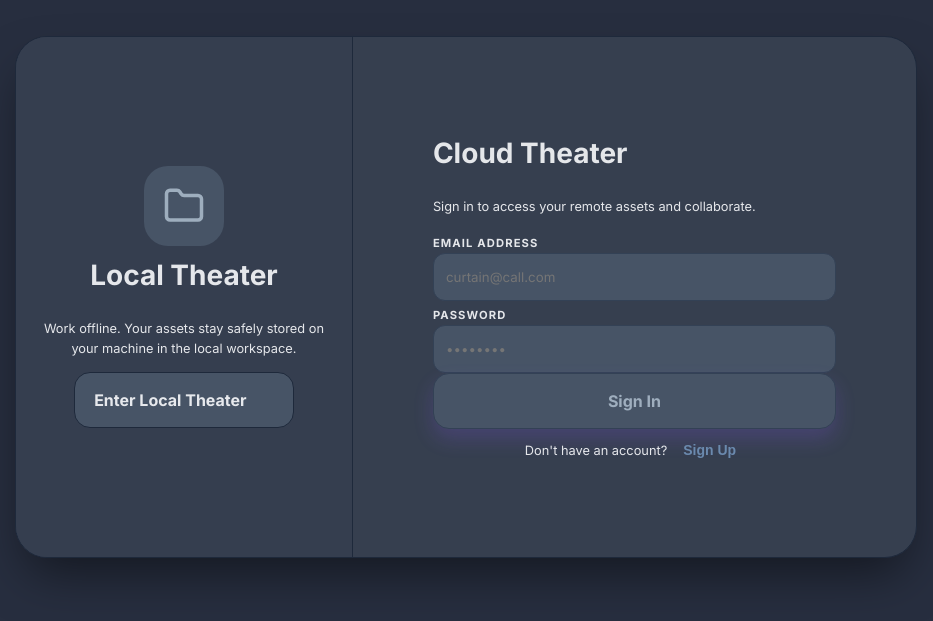
Scenario: LoginView › handles registration success
The image size is (933, 621).
Switch to register
Click the button "Sign Up" at (710, 450), box x1=675 y1=438 x2=744 y2=462
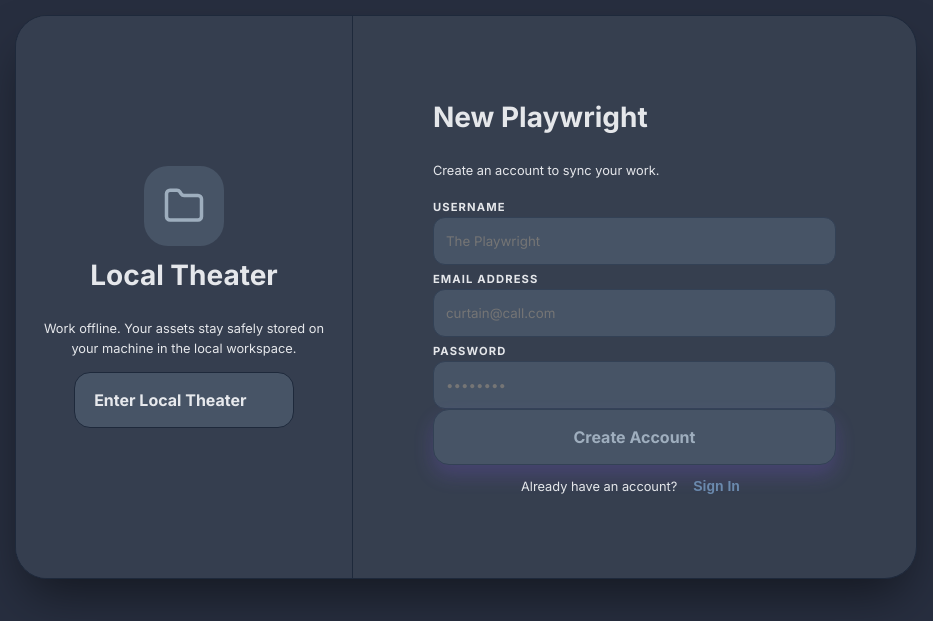
Type "newuser" into the field with placeholder "The Playwright" at (634, 241), box x1=433 y1=217 x2=836 y2=265
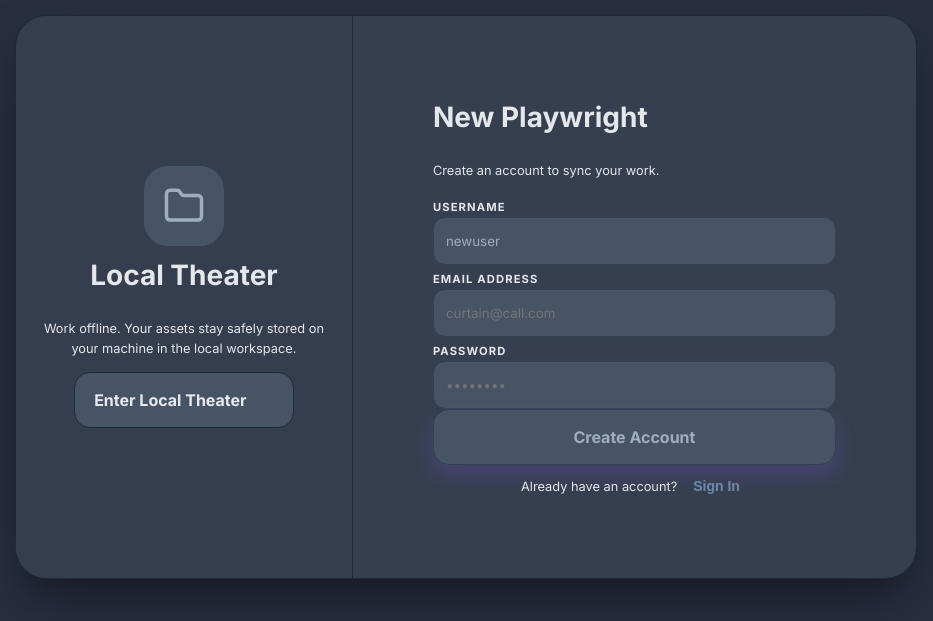
Type "new@example.com" into the field with placeholder "curtain@call.com" at (634, 313), box x1=433 y1=289 x2=836 y2=337
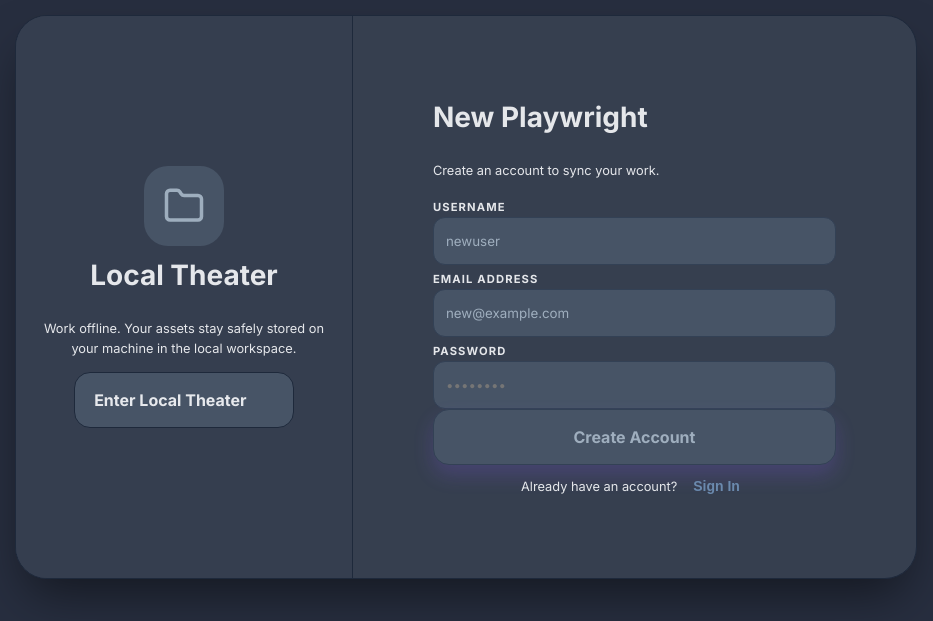
Type "password123" into the password field with placeholder "••••••••" at (634, 385), box x1=433 y1=361 x2=836 y2=409
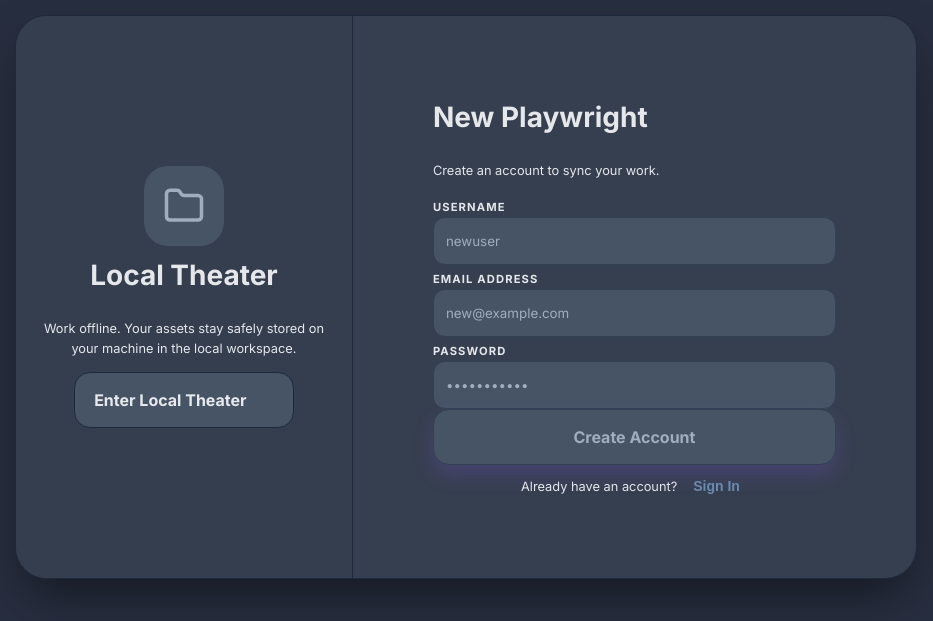
Click the button "Create Account" at (634, 437), box x1=433 y1=409 x2=836 y2=465
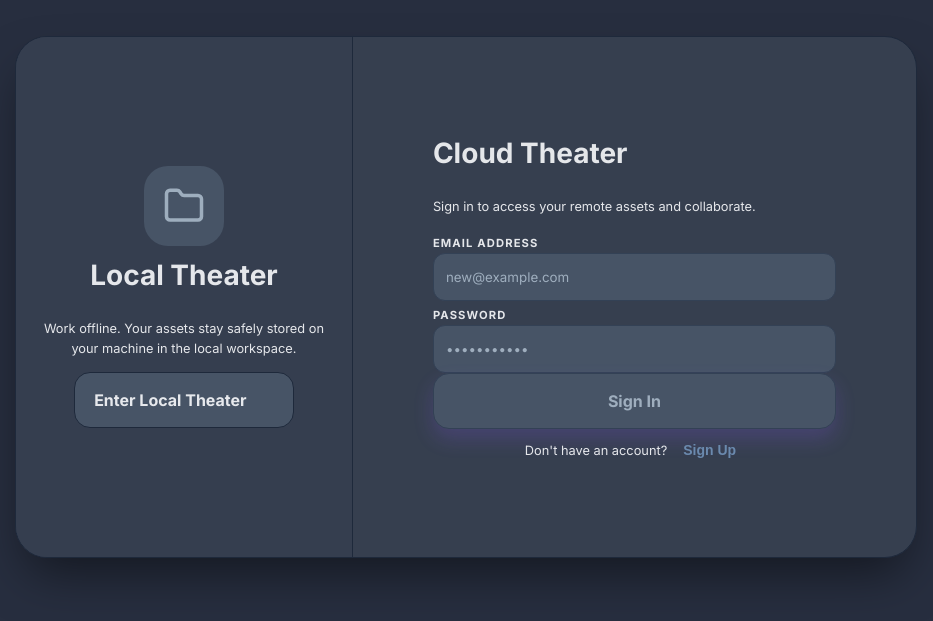
Expected: the heading "Cloud Theater" is shown, x1=433 y1=136 x2=628 y2=170
